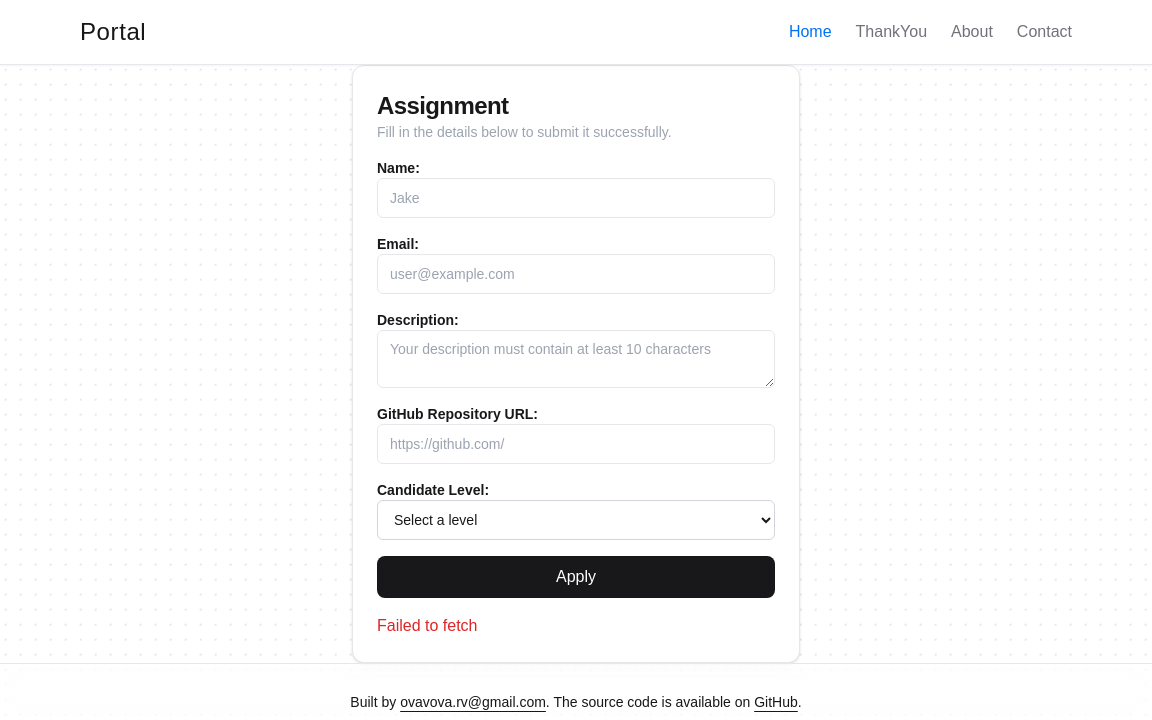
Test: Assignment Submission Flow › should display validation errors for empty fields
Step 1. Click the submit button → (576,577), box [377,556,775,598]
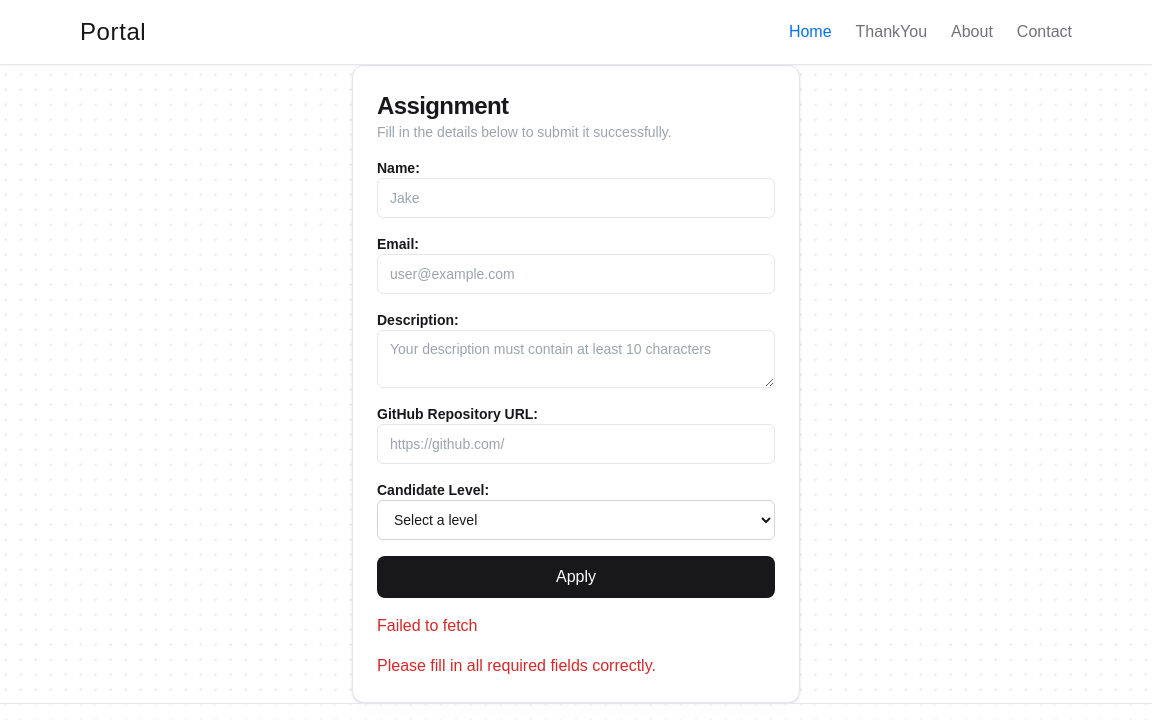
Check: the text "Please fill in all required fields correctly." is shown, box [377,657,656,674]
